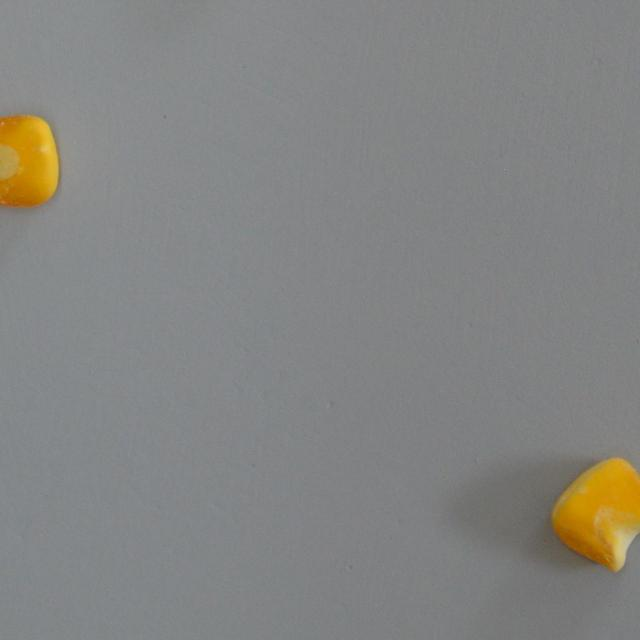pelicula: (550, 456, 640, 574), (0, 114, 60, 211)
